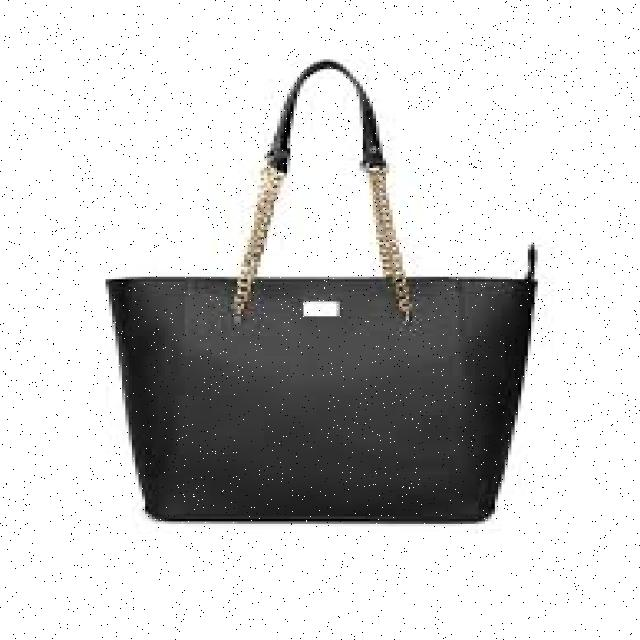handbag: (102, 57, 538, 524)
